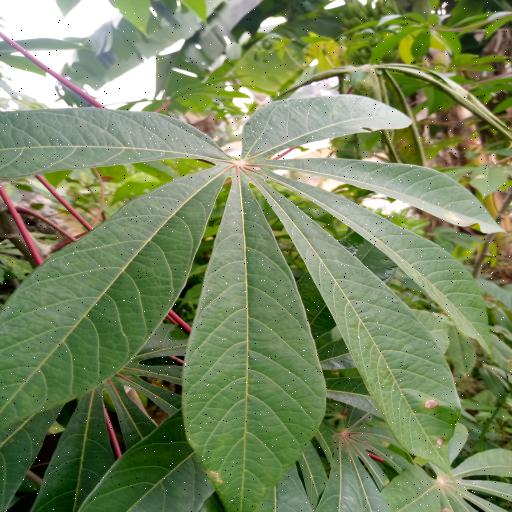Cassava_Brown_Leaf_Spot: (2, 90, 512, 512)
